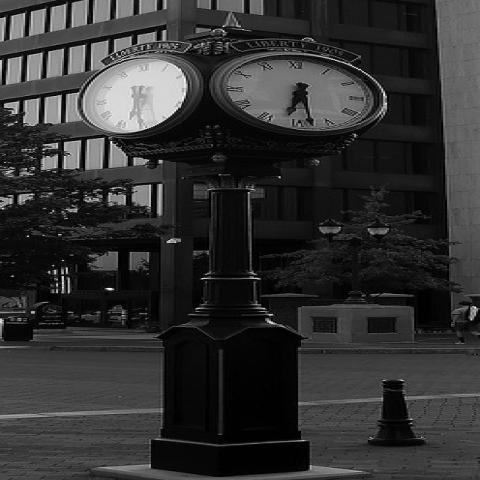car: (38, 319, 64, 329)
